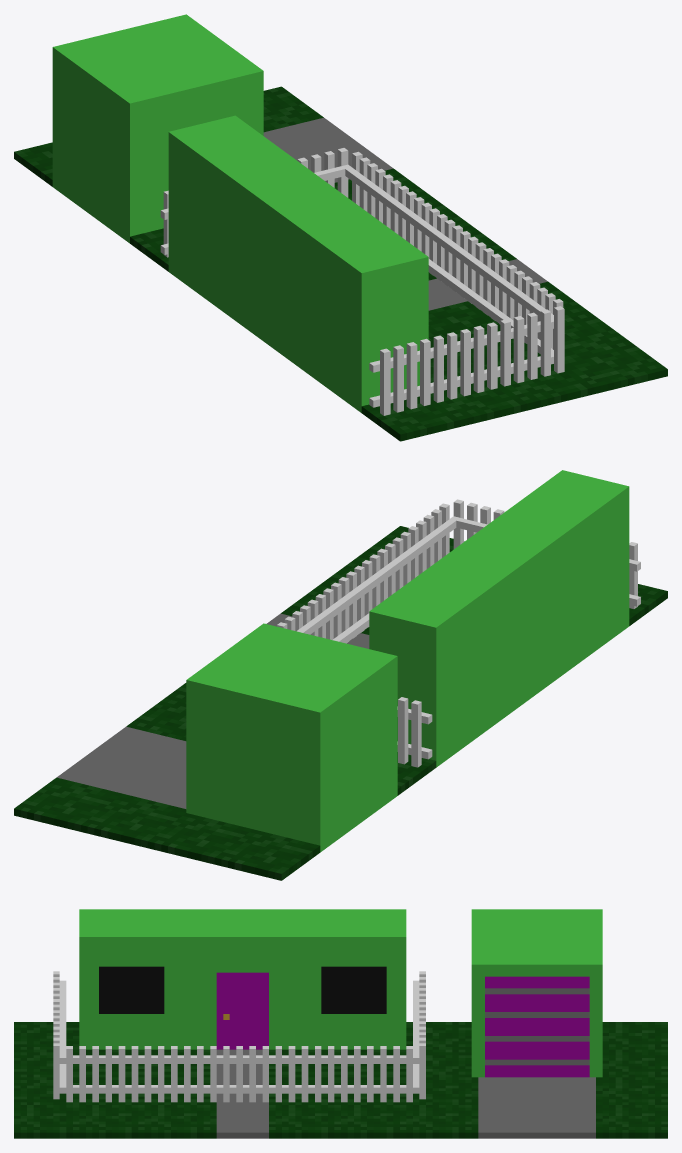
File: house_bright_green.fbx
The picture shows the model from 3 angles, top to bottom: view 1: azimuth 30°, elevation 25°; view 2: azimuth 150°, elevation 25°; view 3: azimuth 270°, elevation 25°; orthographic projection. The views are drawn at different scales.
Visible parts, largest first — view 1: Union; view 2: Union; view 3: Union.
Part boxes in pixels (bbox=[...]): Union: bbox=[14, 14, 667, 441]; Union: bbox=[14, 470, 667, 880]; Union: bbox=[14, 909, 667, 1138].
Bounding box in the file's own units: 40 × 20 × 100.
